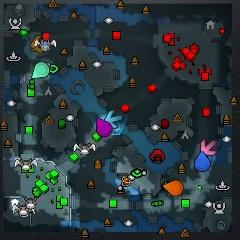p1: (195, 151, 211, 172)
p2: (31, 62, 49, 79)
p3: (96, 118, 112, 138)
p5: (162, 180, 183, 196)
x1: (201, 140, 217, 156)
x3: (105, 111, 122, 129)
x5: (31, 36, 44, 54)
